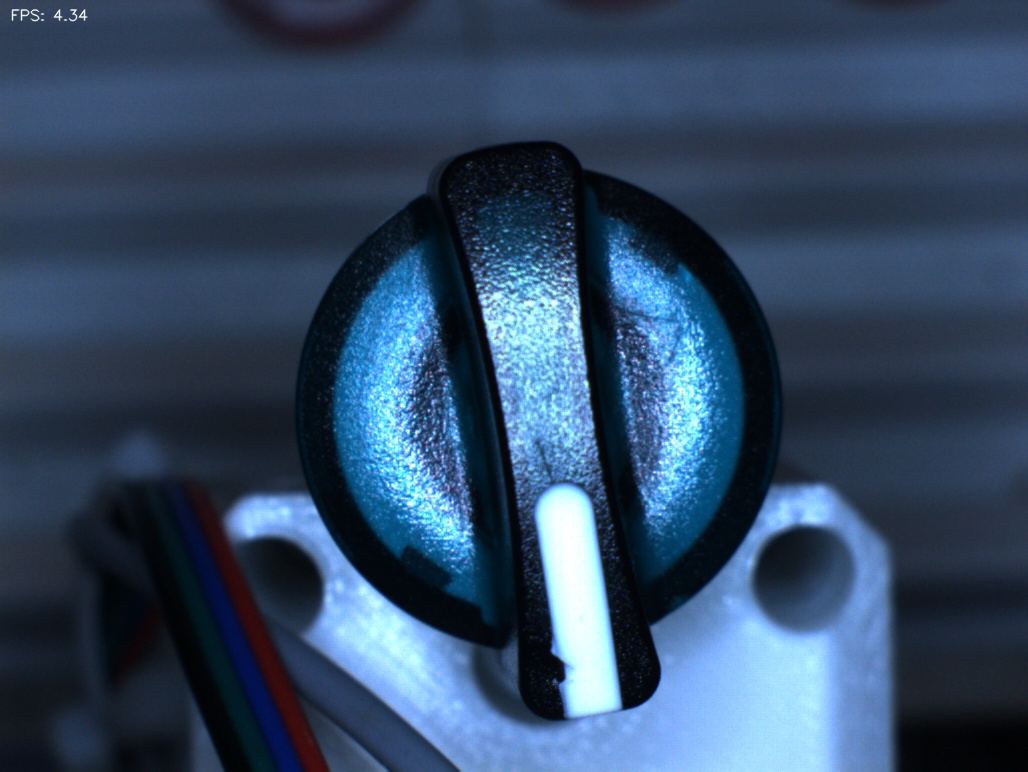Choc: (519, 628, 600, 709)
